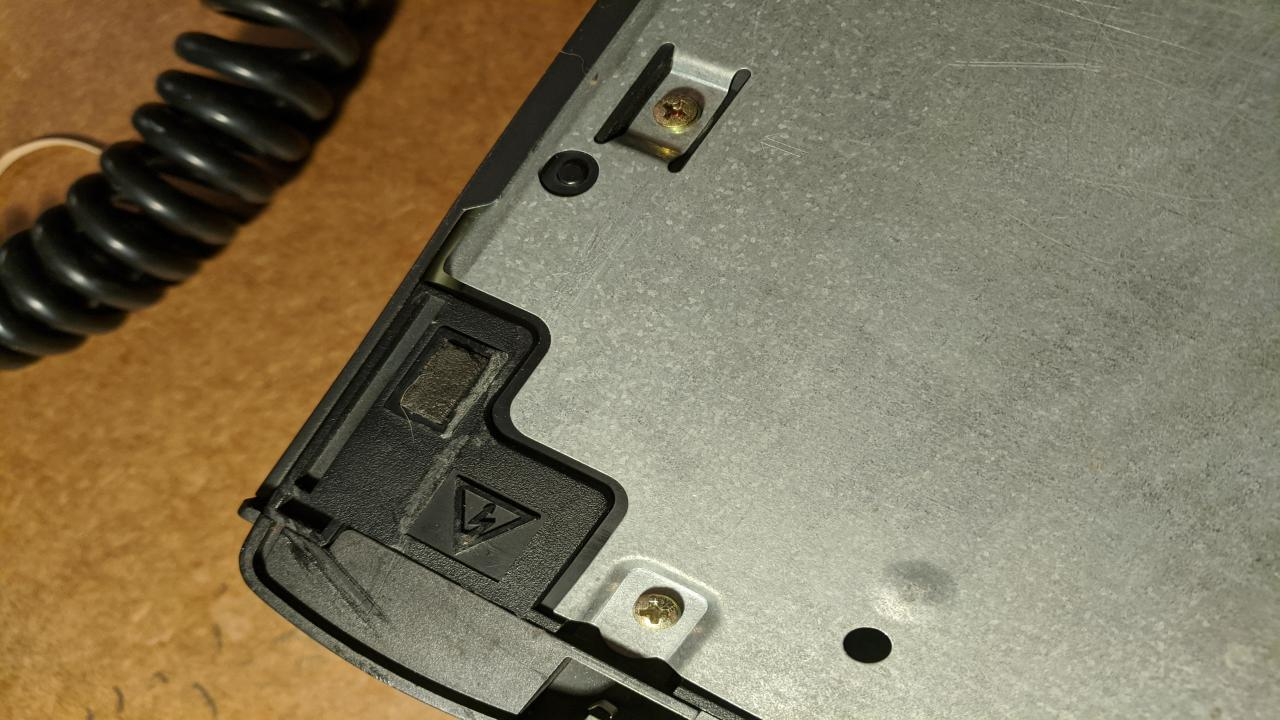CRS: (628, 590, 686, 630), (655, 94, 701, 132)
